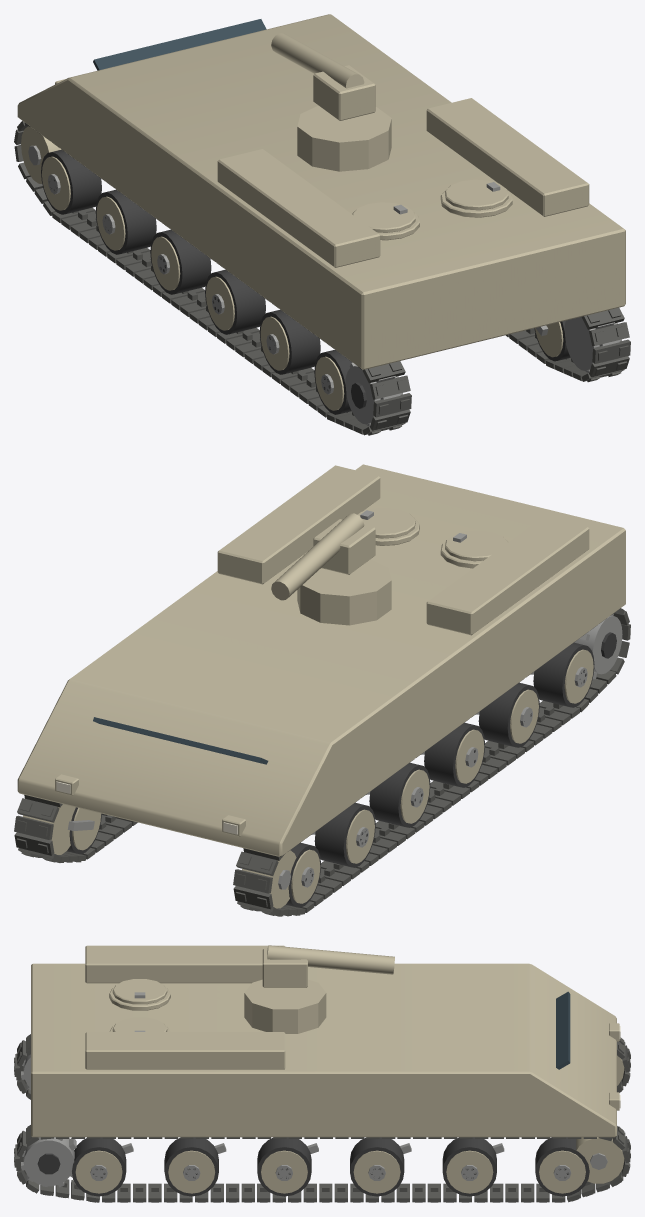
Rendered from rus_td_shturm.glb.
3 views of the same model, one above another, from view 1: azimuth 30°, elevation 25°; view 2: azimuth 150°, elevation 25°; view 3: azimuth 270°, elevation 25° (orthographic). The views are drawn at different scales.
Parts seen in each view (by area): view 1: body, turret, barrel; view 2: body, turret, barrel; view 3: body, turret, barrel.
Boxes of the visible parts, x1,y1,x2,y2 form: body: [14, 14, 630, 435]; turret: [297, 105, 391, 171]; barrel: [271, 33, 375, 120]; body: [14, 464, 630, 916]; turret: [297, 559, 391, 625]; barrel: [271, 513, 375, 600]; body: [14, 945, 630, 1202]; turret: [244, 979, 326, 1033]; barrel: [262, 945, 394, 987].
Size of the model in its own units: 2.85 by 2.49 by 6.79.
